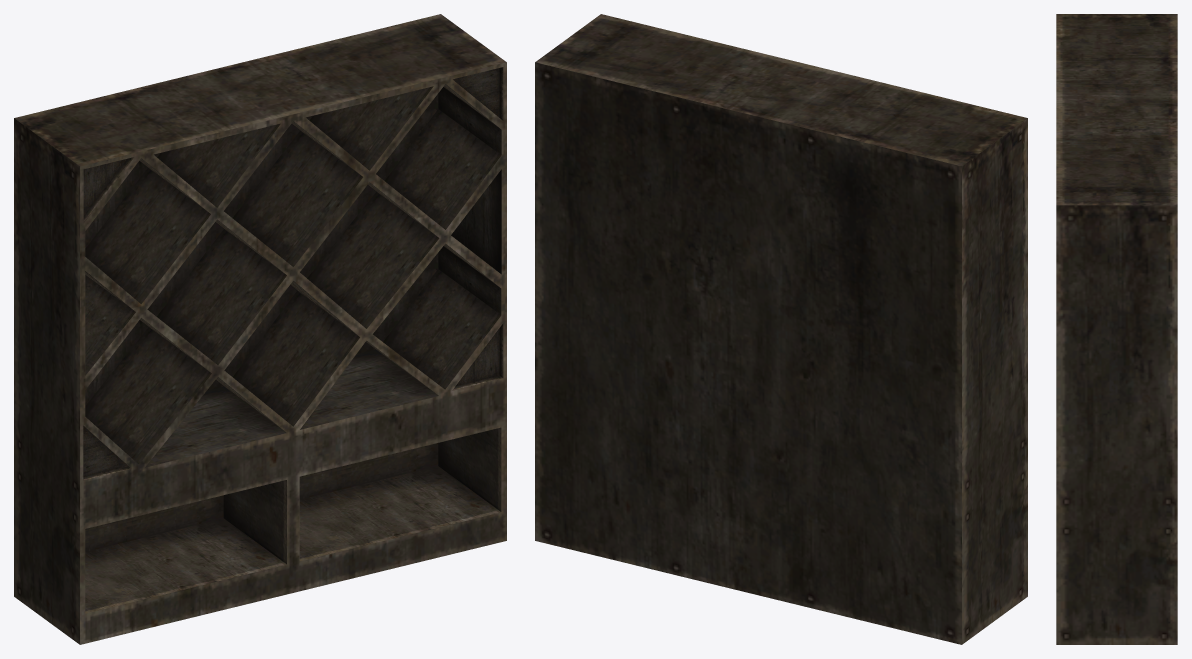
Rendered from sloped_square_shelf.dae.
The picture shows the model from 3 angles, left to right: view 1: azimuth 30°, elevation 25°; view 2: azimuth 150°, elevation 25°; view 3: azimuth 270°, elevation 25°; orthographic projection. The views are drawn at different scales.
Parts seen in each view (by area): view 1: pCube1; view 2: pCube1; view 3: pCube1.
Boxes of the visible parts, bbox=[...] form: pCube1: bbox=[14, 14, 506, 644]; pCube1: bbox=[535, 14, 1027, 644]; pCube1: bbox=[1056, 14, 1177, 644].
Bounding box in the file's own units: 2.8 × 3 × 0.75.
